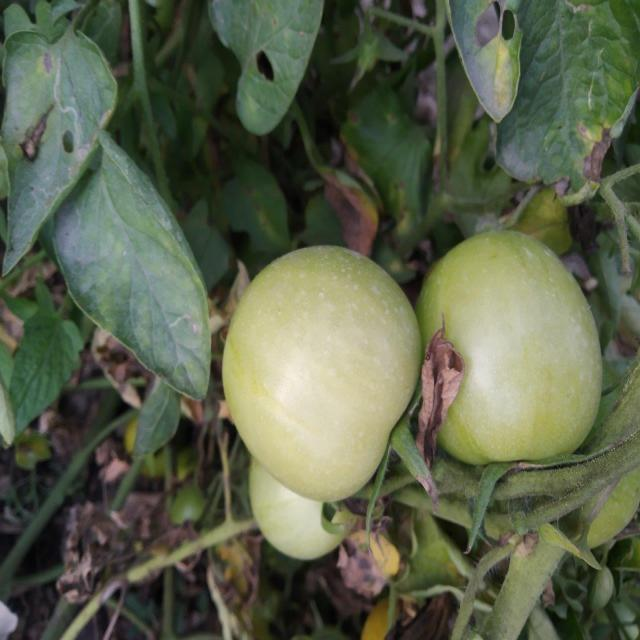Unripe: (220, 242, 421, 504), (422, 227, 604, 468)
